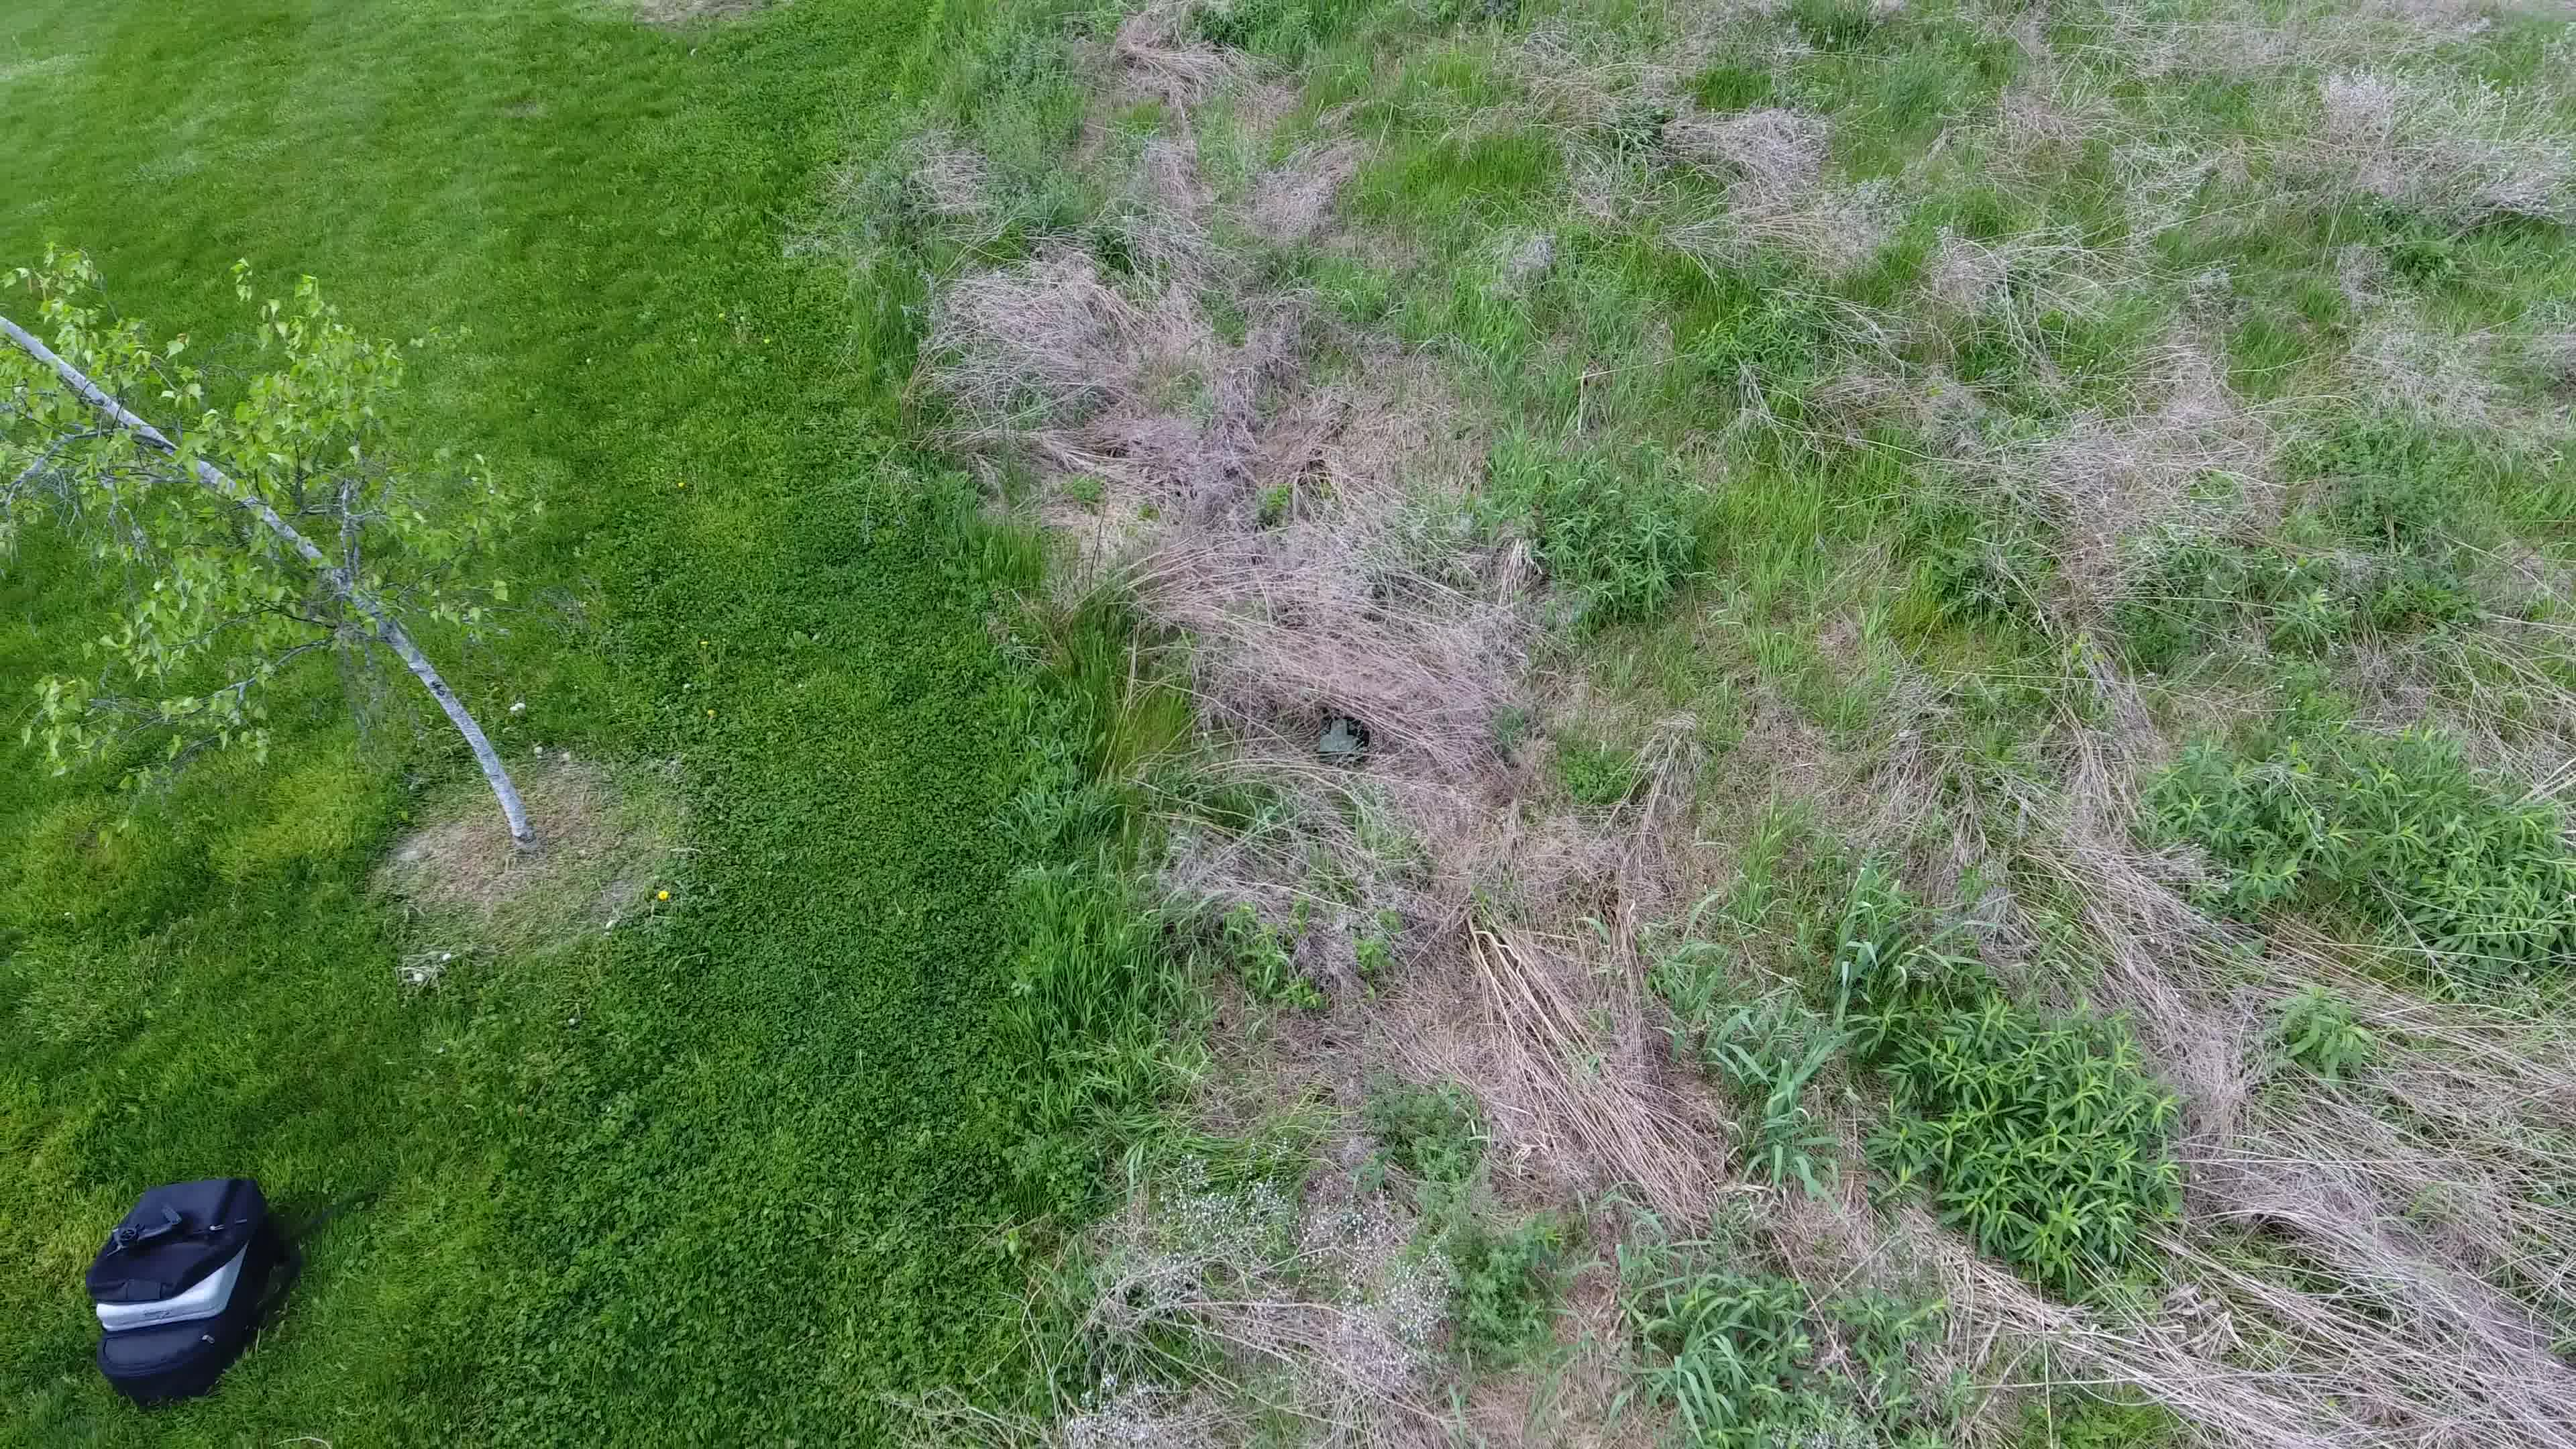transporter9: (1309, 701, 1368, 766)
